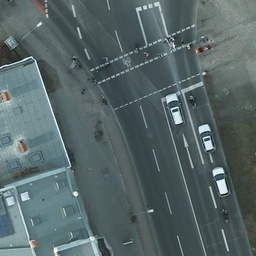car: (164, 92, 186, 126), (197, 125, 218, 154), (213, 166, 230, 197)
